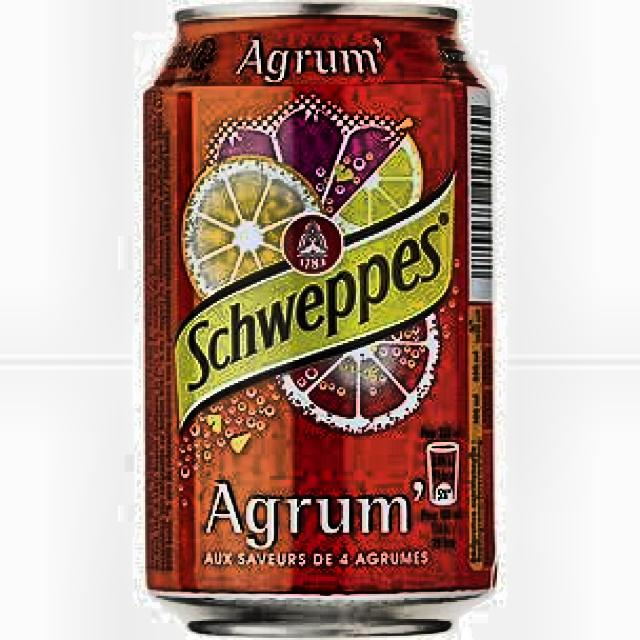Cans: (103, 0, 526, 640)
